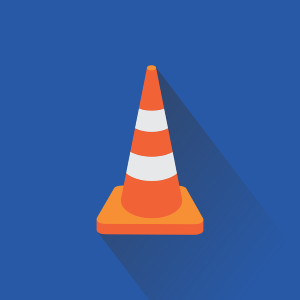traffic cone: (96, 65, 203, 234)
